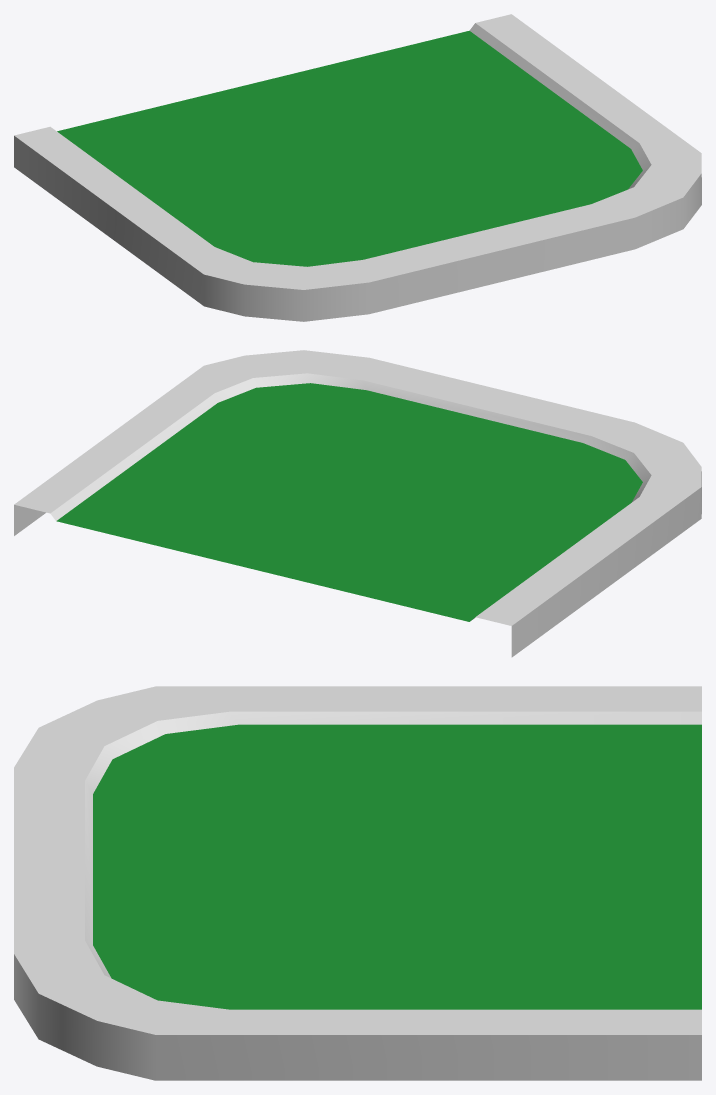
Rendered from GrassBed_1_A_3_.fbx.
3 renders of one model, top to bottom at view 1: azimuth 30°, elevation 25°; view 2: azimuth 150°, elevation 25°; view 3: azimuth 270°, elevation 25°, orthographic. The views are drawn at different scales.
Parts seen in each view (by area): view 1: GrassBed_1_A_3; view 2: GrassBed_1_A_3; view 3: GrassBed_1_A_3.
Part boxes in pixels (x1,y1,x2,y2): GrassBed_1_A_3: [14, 14, 701, 321]; GrassBed_1_A_3: [14, 350, 701, 657]; GrassBed_1_A_3: [14, 686, 701, 1080].
Bounding box in the file's own units: 120 × 7.32 × 100.
